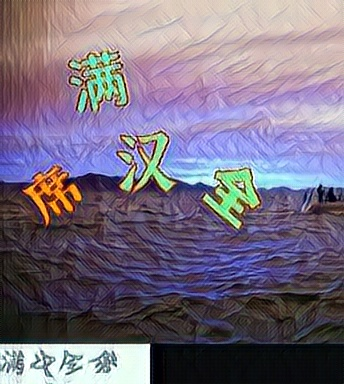BABA: (114, 128, 177, 195)
C2FA: (67, 46, 130, 113)
C8AB: (198, 160, 261, 227)
CFAF: (19, 162, 82, 229)
